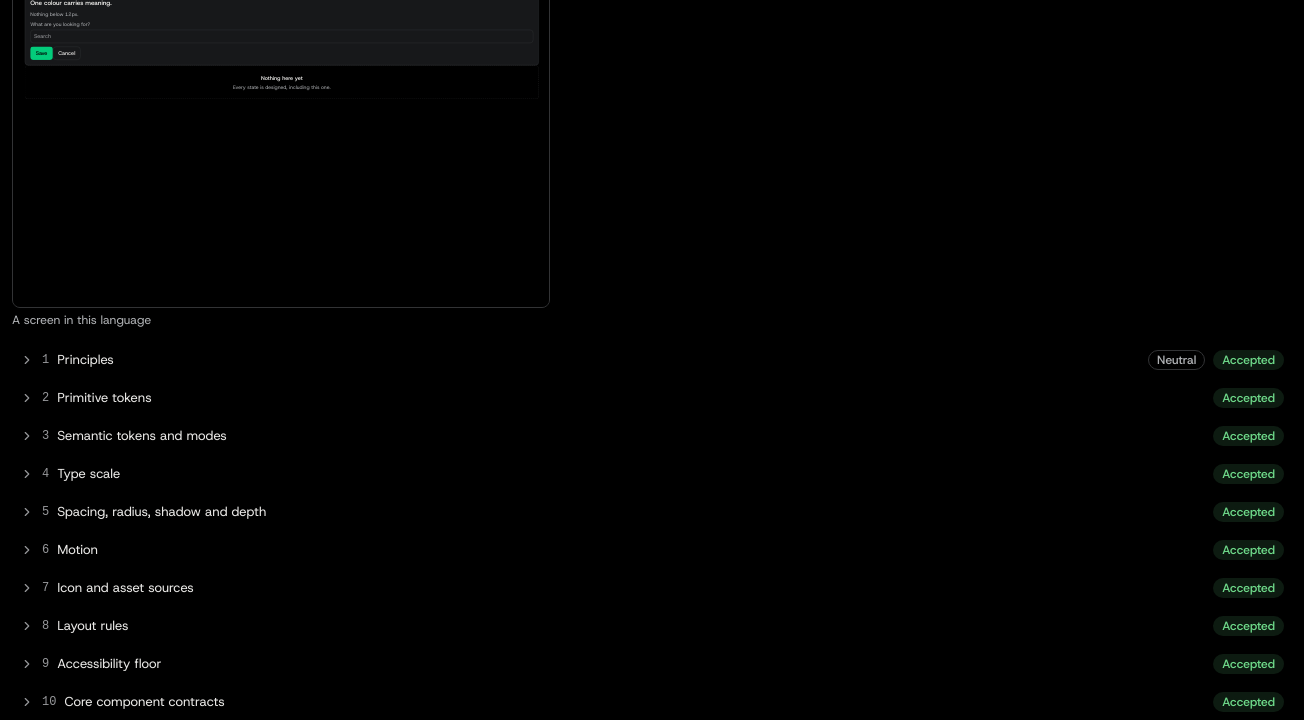
Scenario: approval is the host's record, not the body's claim › stops reading as approved the moment a step is reopened here
(page scrolled)
What coordinates should you click on to do the following:
click the button "1 Principles Neutral Accepted"
I would click on:
 (85, 360)
Its box is [12, 344, 1292, 376].
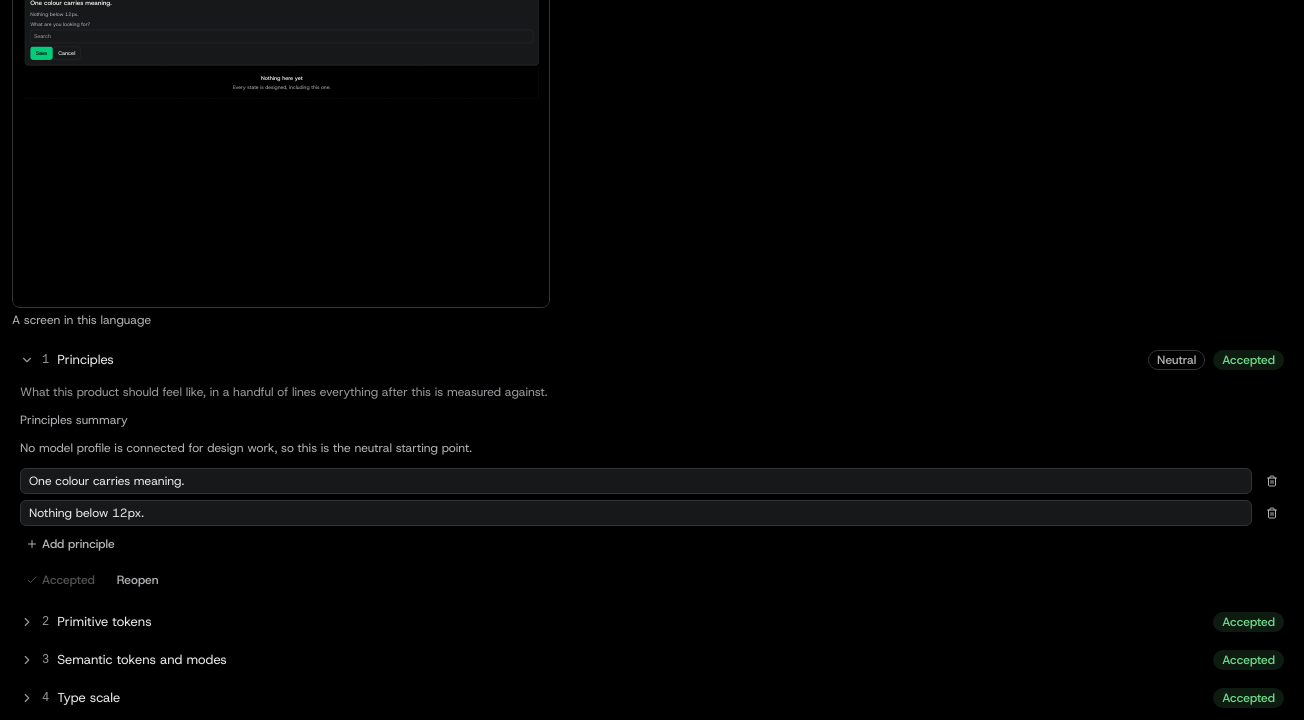
expect the button "Reopen" is shown: met
What coordinates should you click on to do the following:
click the button "Reopen"
I would click on:
 (138, 580)
Its box is [109, 568, 167, 592].
(page scrolled)
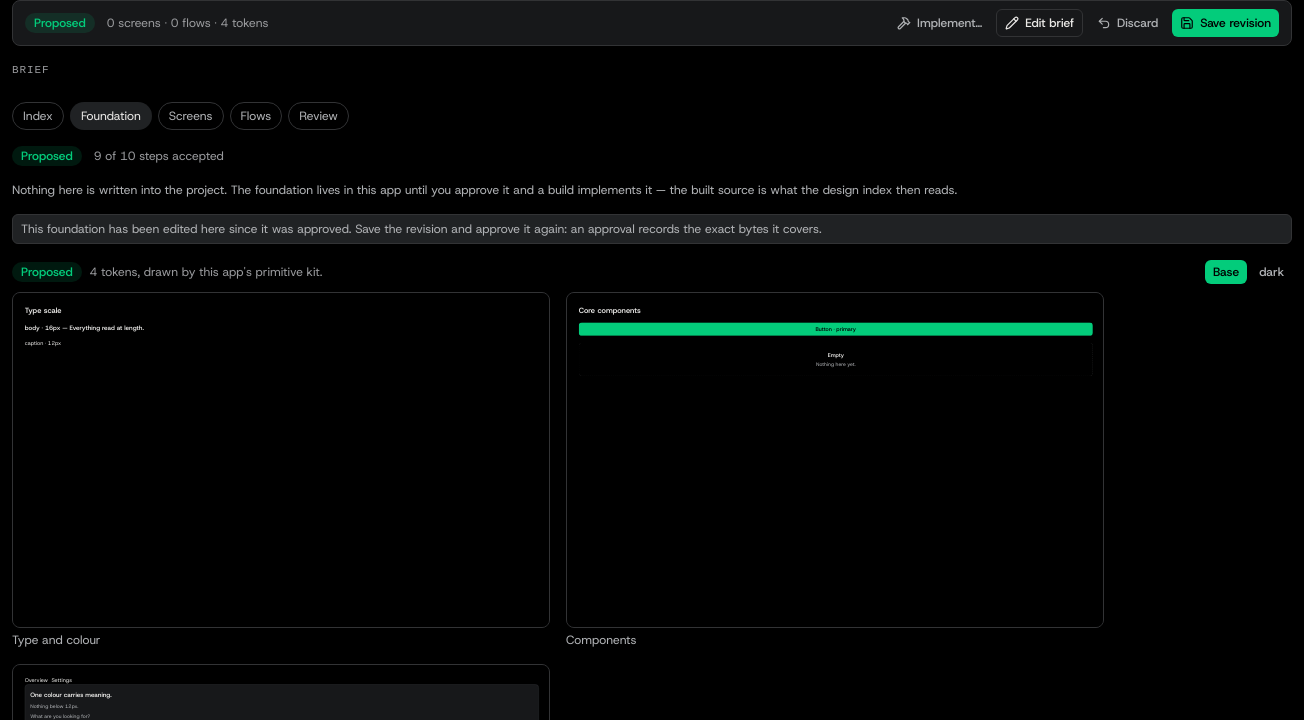
expect the message shows "edited here since it was approved": met, box [21, 221, 822, 237]
